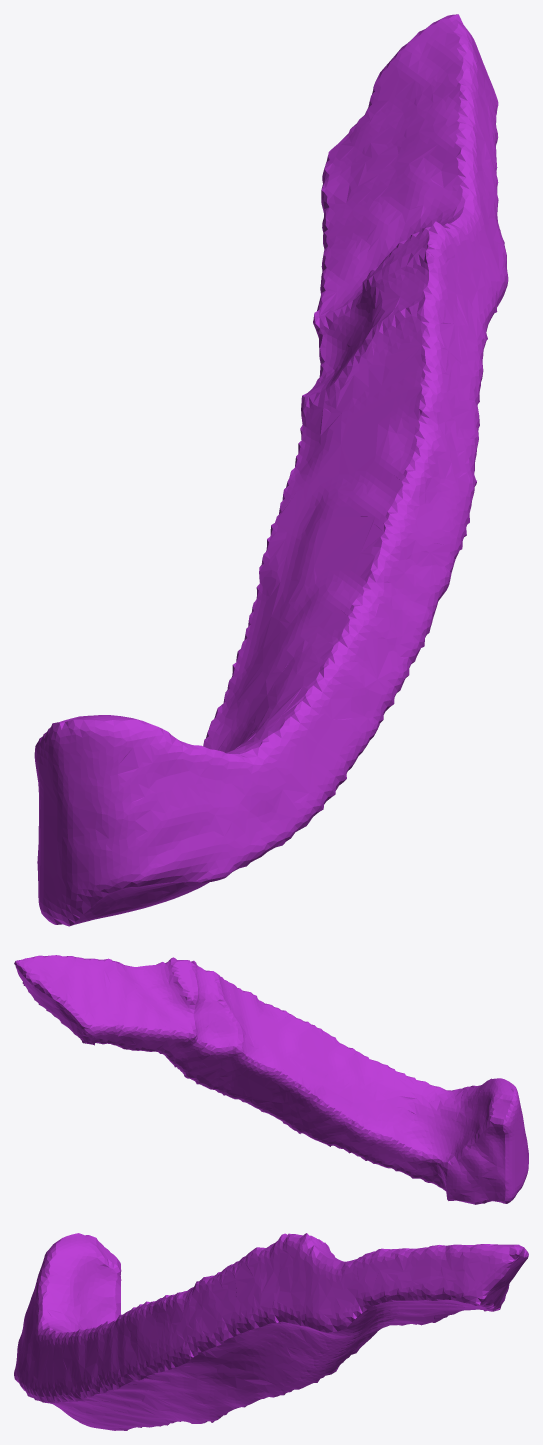
File: Model_29_RH__Area_3a_of_cortex_(primary_somatosensory)_(A3a).obj
The picture shows the model from 3 angles, top to bottom: view 1: azimuth 30°, elevation 25°; view 2: azimuth 150°, elevation 25°; view 3: azimuth 270°, elevation 25°; orthographic projection. The views are drawn at different scales.
Size of the model in its own units: 9.15 by 6.52 by 7.93.
